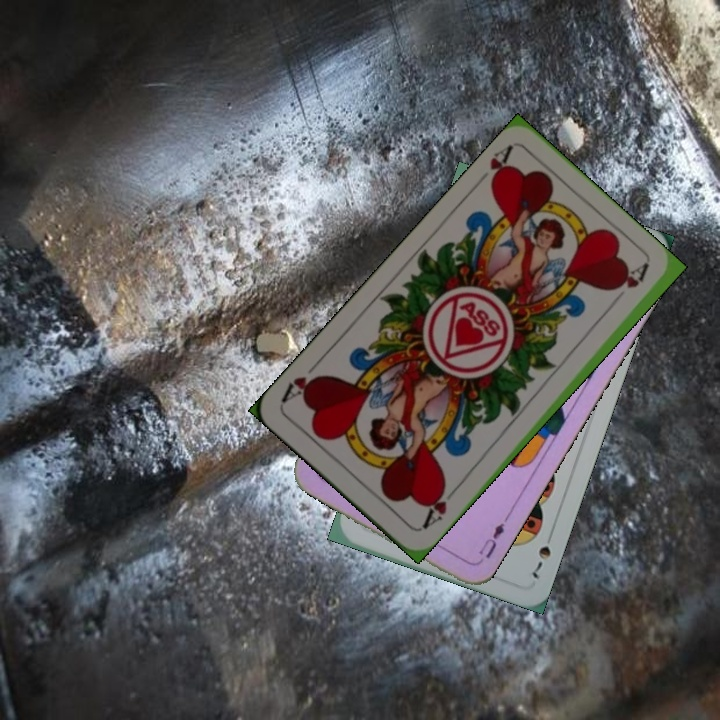EU: (474, 514, 511, 562)
HA: (417, 480, 460, 533), (485, 141, 516, 192)
S7: (528, 541, 554, 582)
